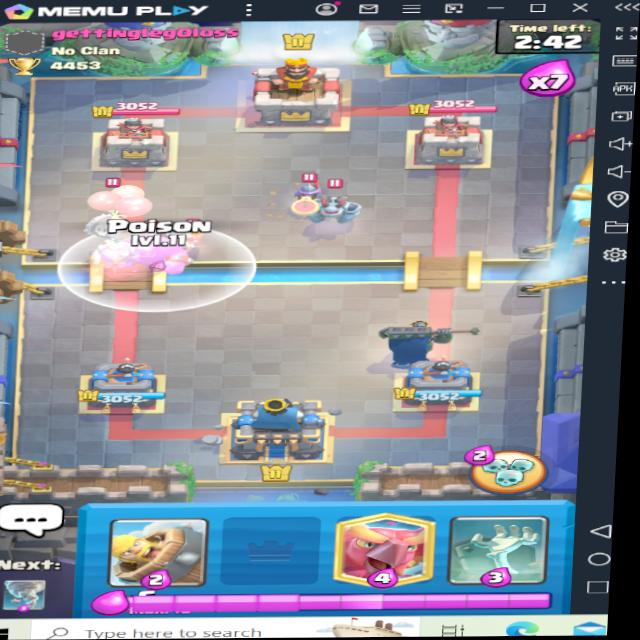electro-golem: (98, 227, 191, 275)
mega-minion: (299, 191, 364, 233)
musketeer: (283, 172, 331, 217)
royal-ghost: (85, 231, 143, 274)
skeleton-barrel: (76, 181, 147, 241)
valkyrie: (167, 212, 213, 254)
